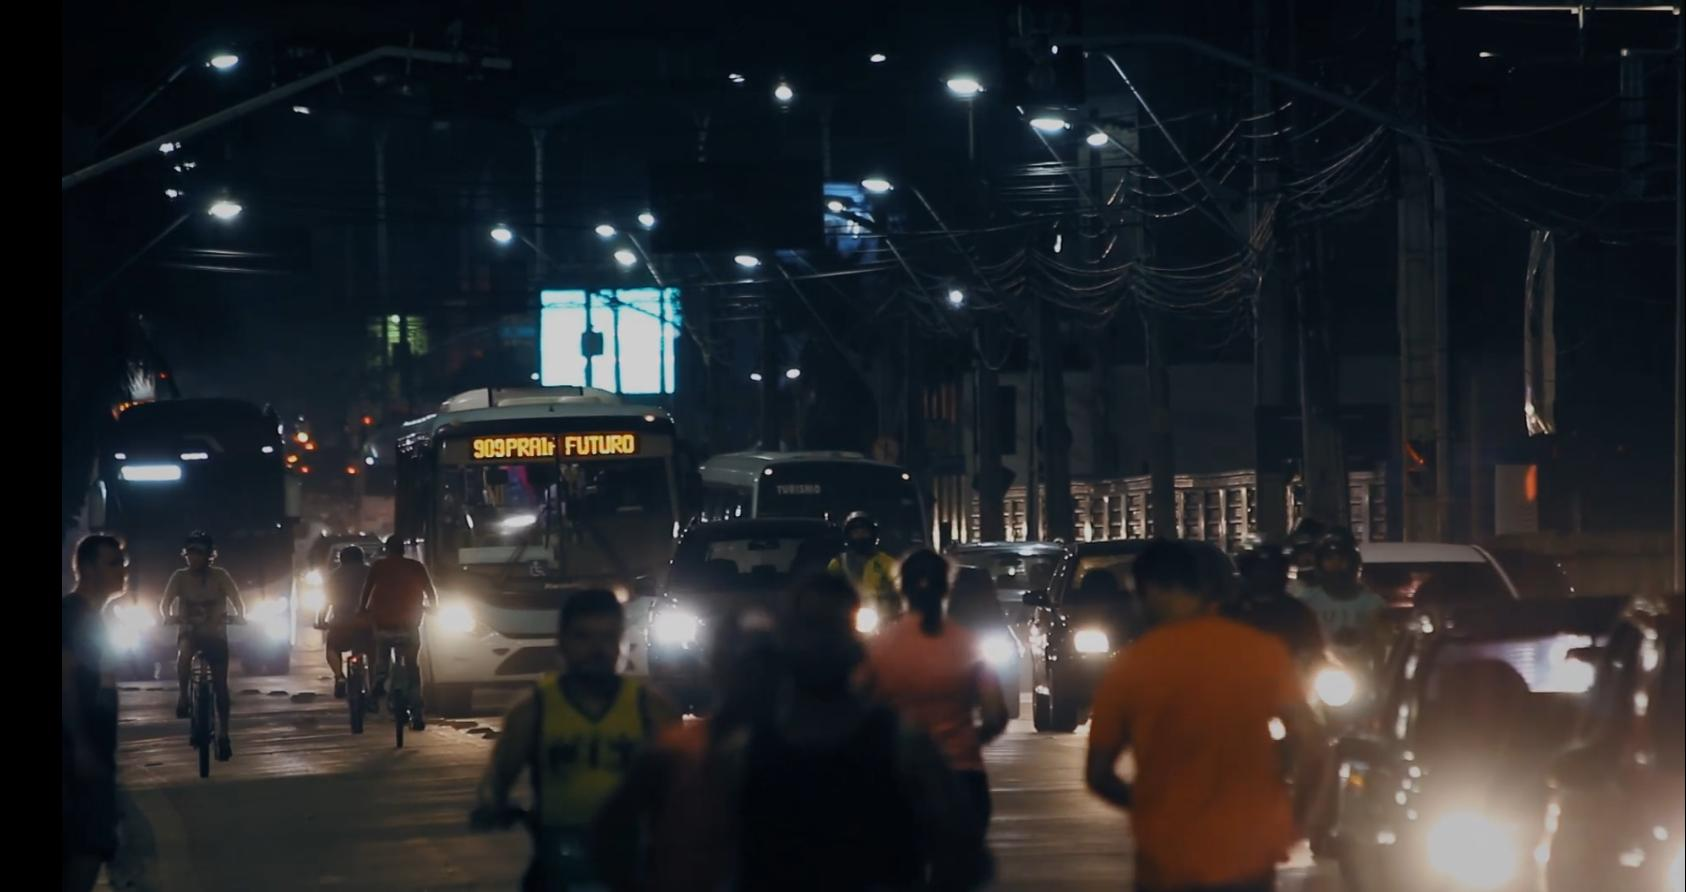bus: (417, 394, 695, 654)
car: (1033, 515, 1179, 693)
cyclist: (150, 544, 283, 806), (370, 529, 461, 748), (315, 522, 369, 720)
motorcycle: (1290, 525, 1382, 744)
